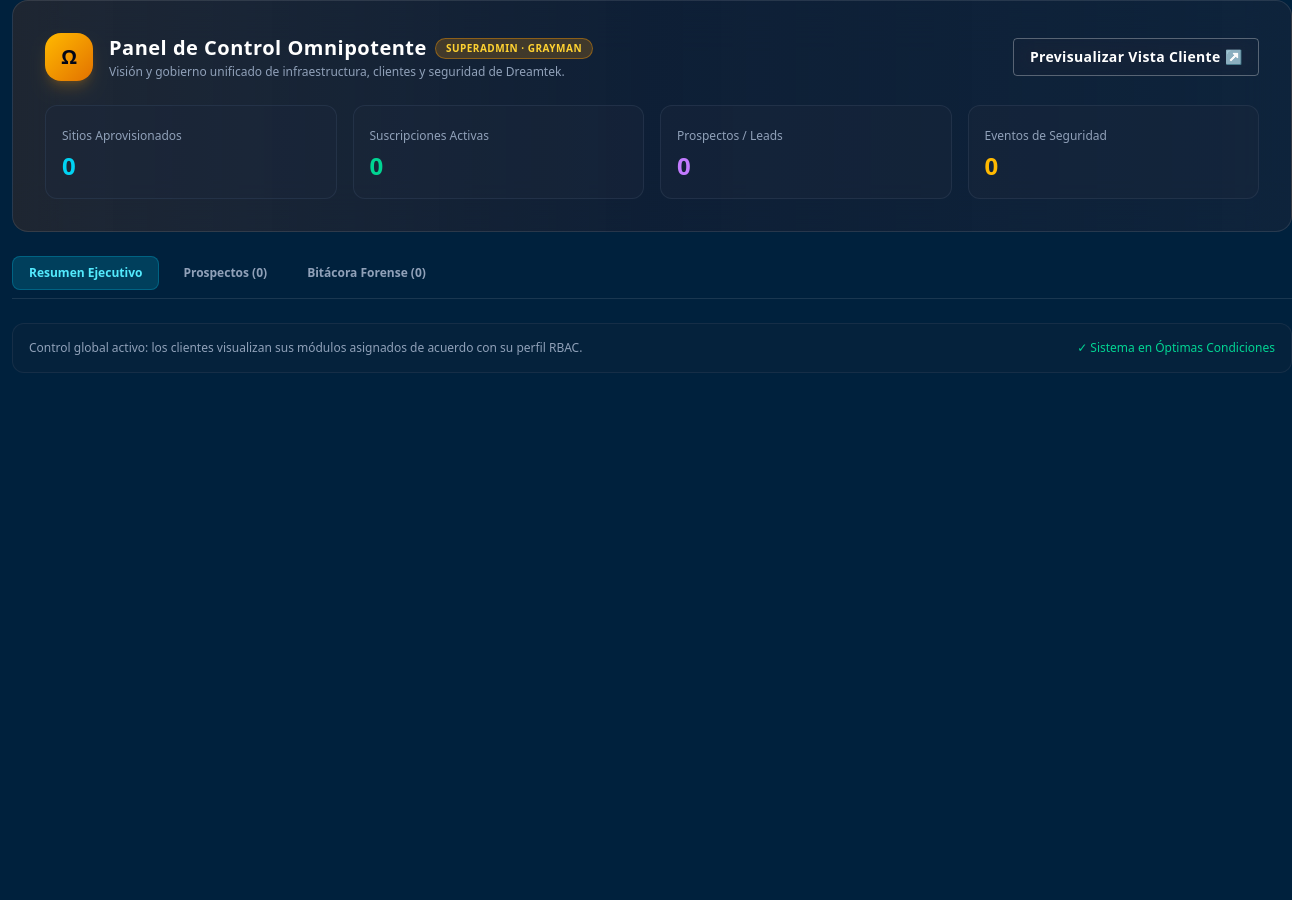
Dashboard Widgets Suite (FC 038 100% Coverage) › OmnipotentAdminPanel › debe manejar estado sin leads ni logs de auditoría cuando las APIs fallan
// Check leads tab empty state
Click the button "Prospectos (0)" at (225, 273), box [167,257,283,289]
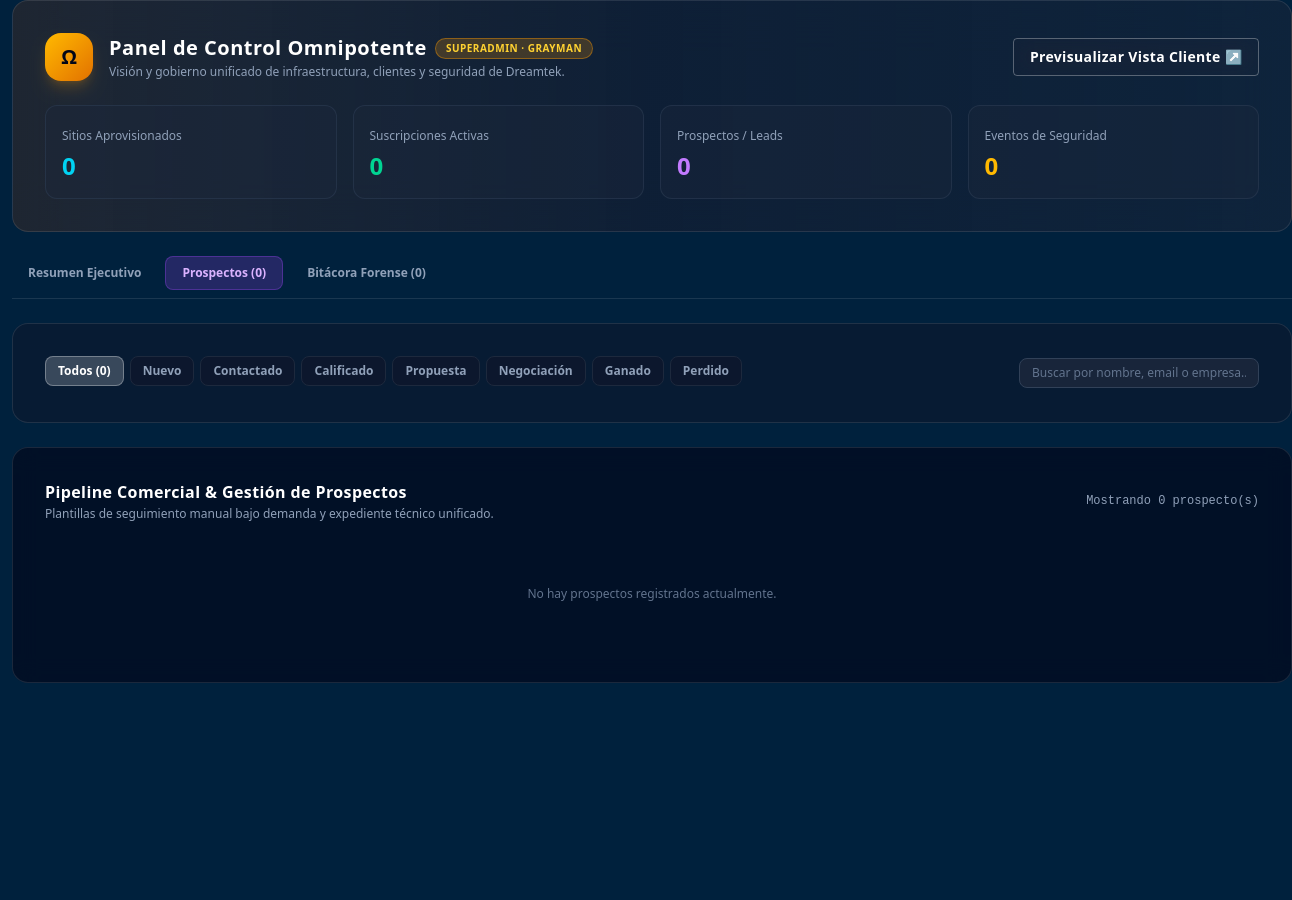
Result: the text "No hay prospectos registrados actualmente." is shown at [527,585,777,602]
// Check security tab empty state
Click the button "Bitácora Forense (0)" at (366, 273), box [291,257,442,289]
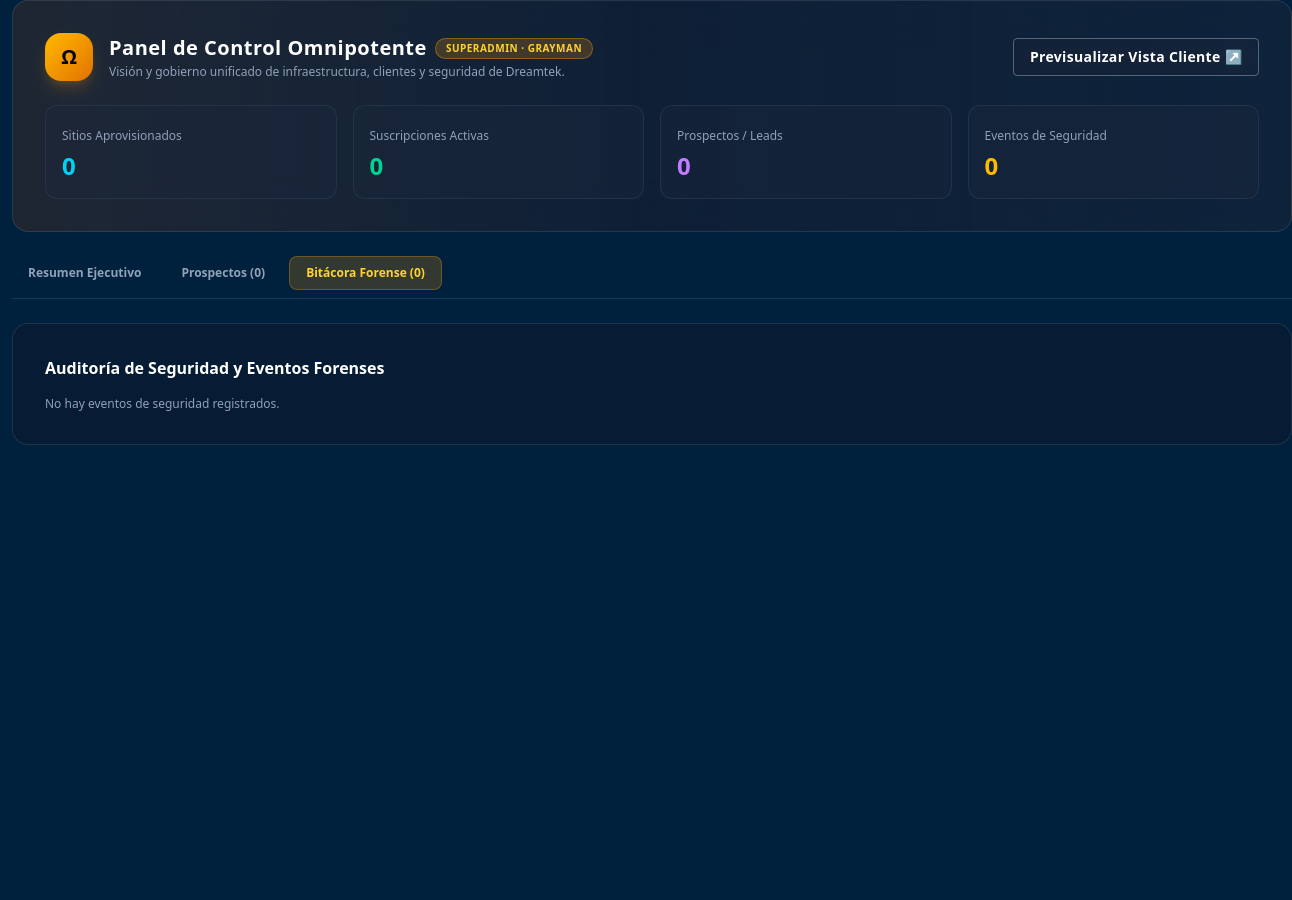
Result: the text "No hay eventos de seguridad registrados." is shown at [45,395,280,412]
